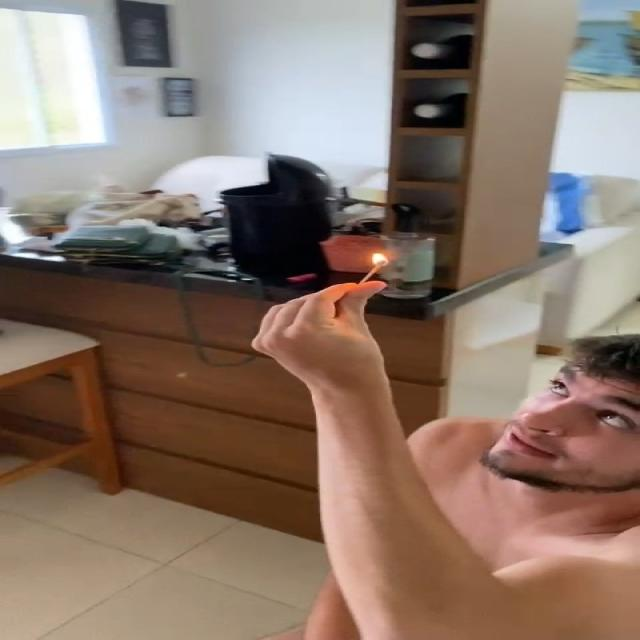fogo-ypXI: (372, 252, 389, 266)
